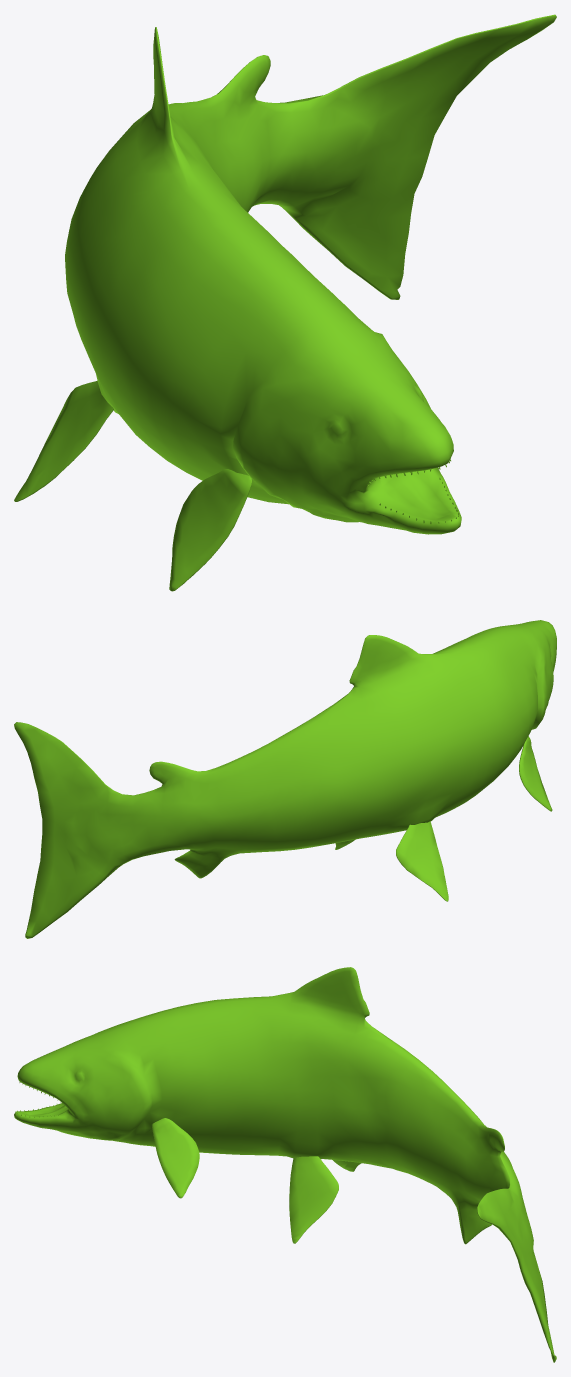
Rendered from salmon.obj.
3 views of the same model, one above another, from view 1: azimuth 30°, elevation 25°; view 2: azimuth 150°, elevation 25°; view 3: azimuth 270°, elevation 25° (orthographic). The views are drawn at different scales.
Parts seen in each view (by area): view 1: salmon; view 2: salmon; view 3: salmon.
Boxes of the visible parts, box(x1,y1,x2,y2) form: salmon: box(14, 14, 556, 591); salmon: box(14, 620, 556, 938); salmon: box(14, 967, 556, 1362).
Bounding box in the file's own units: 1348 × 978 × 1711.
